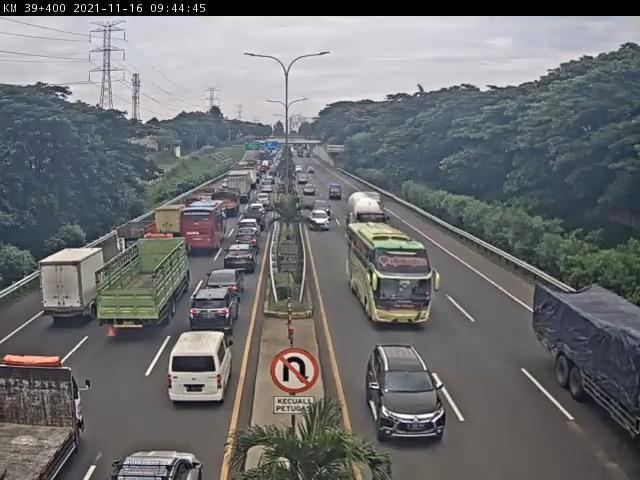bus: (349, 224, 442, 331), (177, 207, 226, 260)
car: (367, 346, 448, 442), (166, 332, 232, 403), (189, 291, 237, 339), (205, 272, 246, 303), (222, 249, 254, 278), (234, 232, 261, 252), (237, 217, 262, 238)
truck: (531, 284, 640, 446), (99, 241, 188, 331), (42, 246, 110, 325), (149, 205, 183, 247), (115, 226, 157, 258)
